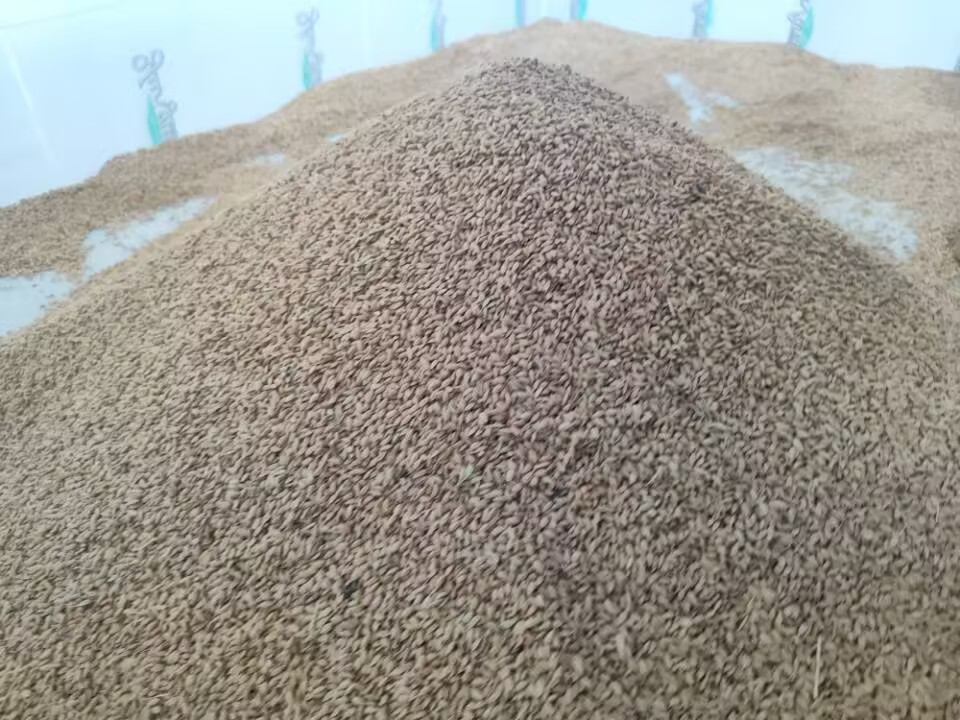Grain: (27, 46, 959, 709)
